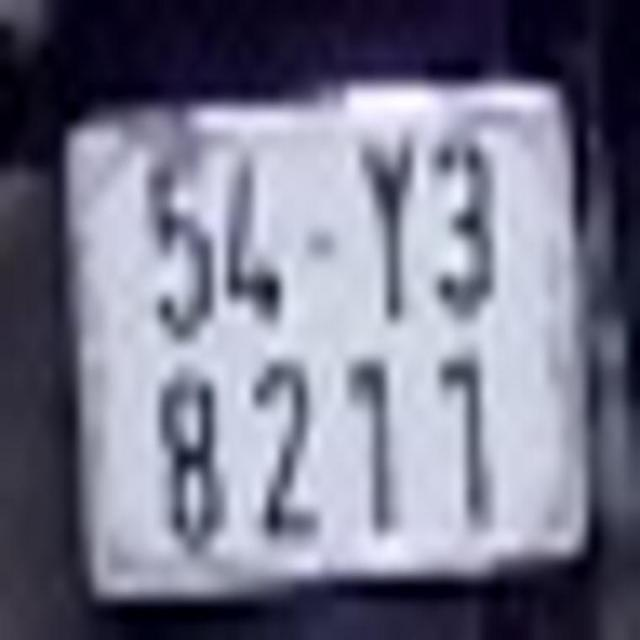0: (216, 142, 290, 330)
1: (434, 342, 497, 532), (348, 350, 396, 532)
2: (248, 346, 322, 536)
3: (425, 120, 503, 327)
5: (139, 140, 213, 348)
8: (149, 363, 231, 559)
Y: (354, 116, 420, 328)
